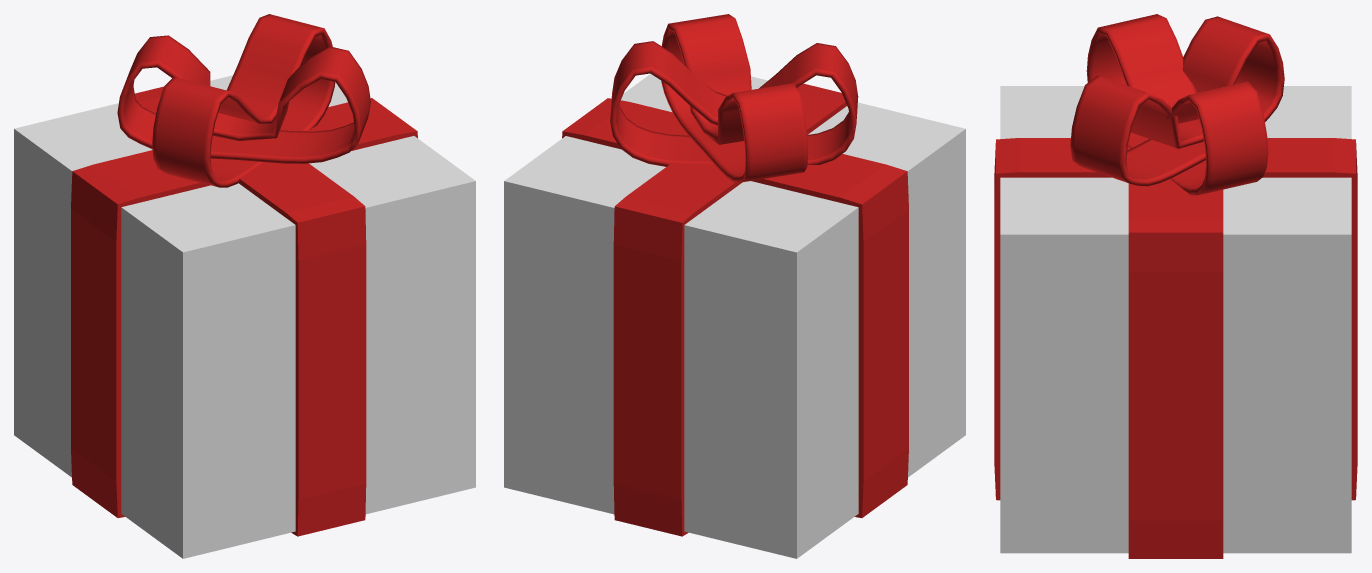
Rendered from giftbox1.glb.
The picture shows the model from 3 angles, left to right: view 1: azimuth 30°, elevation 25°; view 2: azimuth 150°, elevation 25°; view 3: azimuth 270°, elevation 25°; orthographic projection. The views are drawn at different scales.
Parts seen in each view (by area): view 1: Cube, Cube.001; view 2: Cube, Cube.001; view 3: Cube, Cube.001.
Boxes of the visible parts, bbox=[...] form: Cube: bbox=[14, 75, 475, 558]; Cube.001: bbox=[71, 14, 417, 536]; Cube: bbox=[504, 74, 965, 558]; Cube.001: bbox=[562, 14, 908, 536]; Cube: bbox=[1000, 86, 1351, 553]; Cube.001: bbox=[994, 14, 1357, 558].
Size of the model in its own units: 0.3689 by 0.4791 by 0.3689.
